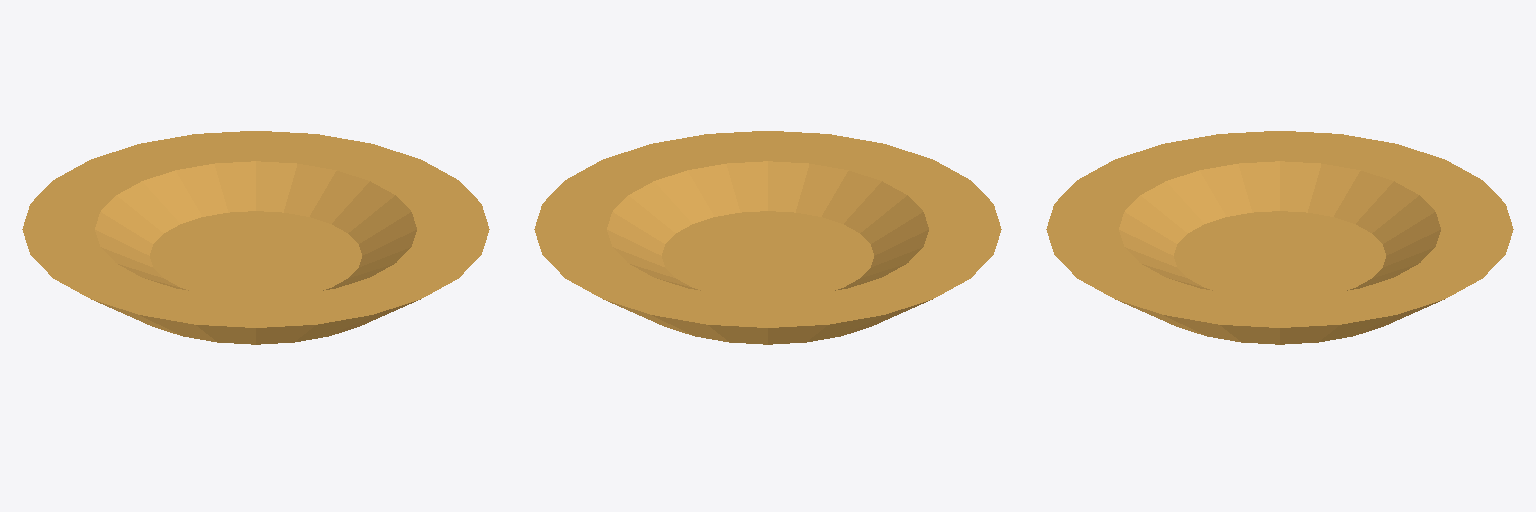
Rendered from detailPlate.obj.
The picture shows the model from 3 angles: view 1: azimuth 30°, elevation 25°; view 2: azimuth 150°, elevation 25°; view 3: azimuth 270°, elevation 25°; orthographic projection.
Visible parts, largest first — view 1: detailPlate; view 2: detailPlate; view 3: detailPlate.
Boxes of the visible parts, x1,y1,x2,y2 form: detailPlate: [22, 131, 489, 344]; detailPlate: [534, 131, 1001, 344]; detailPlate: [1046, 131, 1513, 344].
Size of the model in its own units: 0.2535 by 0.0319 by 0.2535.